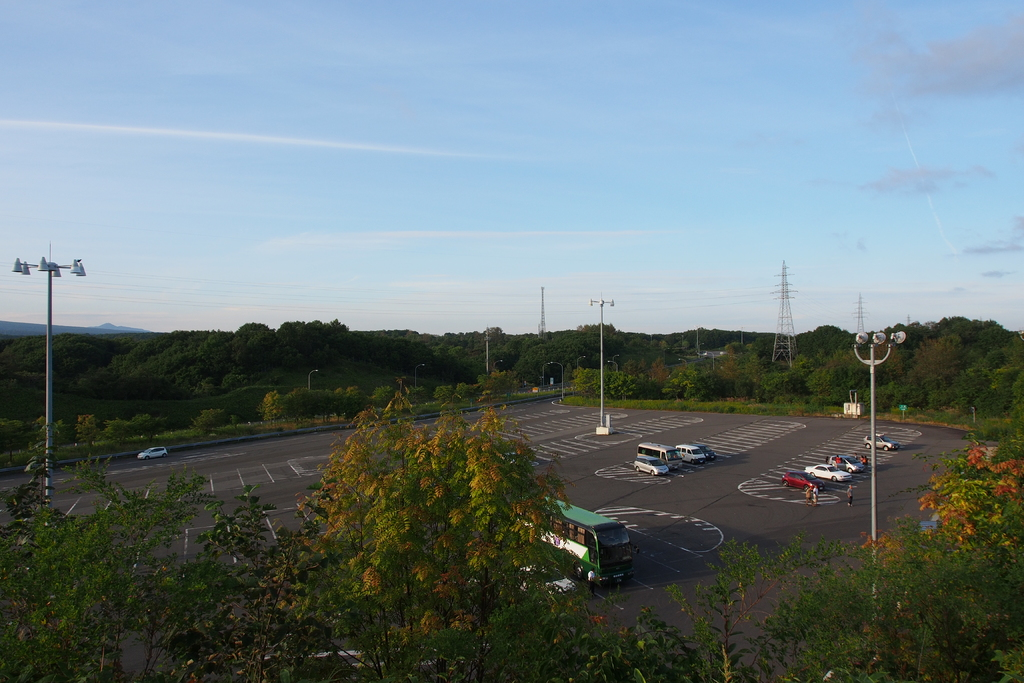Bus: (515, 495, 633, 579), (636, 440, 686, 467)
